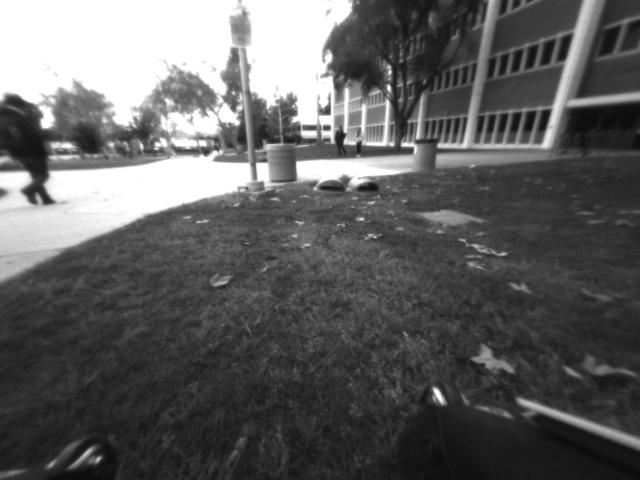trashcan: (266, 143, 302, 184), (411, 141, 437, 175)
